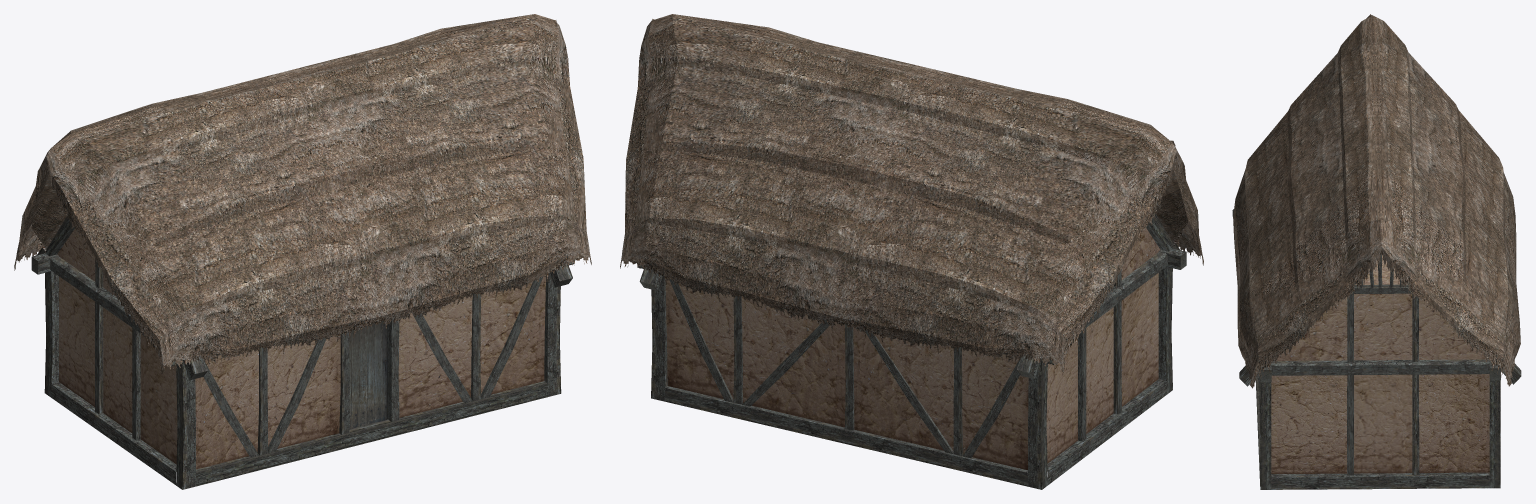
Rendered from Thatched_house3V2_Alex.fbx.
3 renders of one model, left to right at view 1: azimuth 30°, elevation 25°; view 2: azimuth 150°, elevation 25°; view 3: azimuth 270°, elevation 25°, orthographic. The views are drawn at different scales.
Parts seen in each view (by area): view 1: ThatchedRoof_UP.002, House2_walls, ThatchedRoof_BOT.002, House_frame.001, Wooden_door.002; view 2: ThatchedRoof_UP.002, House2_walls, ThatchedRoof_BOT.002, House_frame.001; view 3: ThatchedRoof_UP.002, House2_walls, House_frame.001, ThatchedRoof_BOT.002.
Part boxes in pixels (bbox=[...]): ThatchedRoof_UP.002: bbox=[29, 14, 576, 326]; House2_walls: bbox=[57, 228, 545, 469]; ThatchedRoof_BOT.002: bbox=[14, 23, 591, 374]; House_frame.001: bbox=[31, 217, 574, 489]; Wooden_door.002: bbox=[349, 321, 387, 428]; ThatchedRoof_UP.002: bbox=[635, 14, 1188, 324]; House2_walls: bbox=[665, 227, 1160, 470]; ThatchedRoof_BOT.002: bbox=[620, 21, 1203, 372]; House_frame.001: bbox=[637, 213, 1186, 489]; ThatchedRoof_UP.002: bbox=[1244, 14, 1509, 344]; House2_walls: bbox=[1271, 255, 1489, 473]; House_frame.001: bbox=[1232, 209, 1521, 489]; ThatchedRoof_BOT.002: bbox=[1233, 170, 1520, 388].
Bounding box in the file's own units: 979 × 585 × 525.
Materials: 5 (5 with a texture image).
